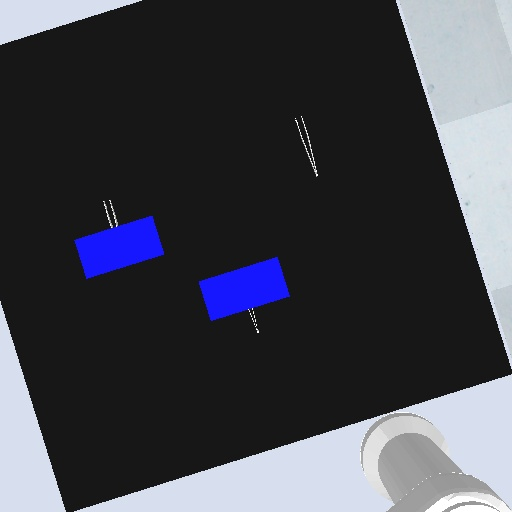pinza: (292, 111, 320, 181), (101, 197, 120, 231), (246, 306, 262, 337)
